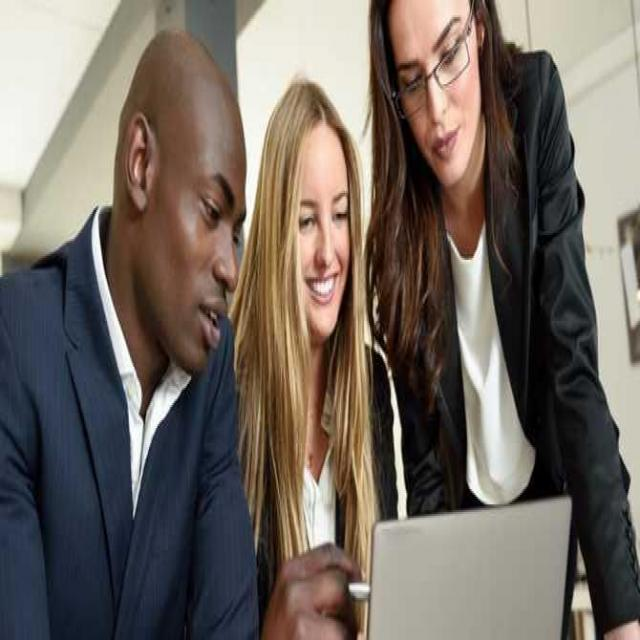person: (350, 10, 621, 636), (5, 34, 250, 636), (241, 16, 387, 590)
